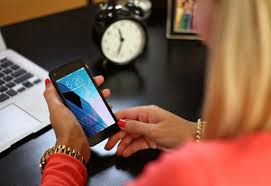mobil: (48, 55, 123, 148)
